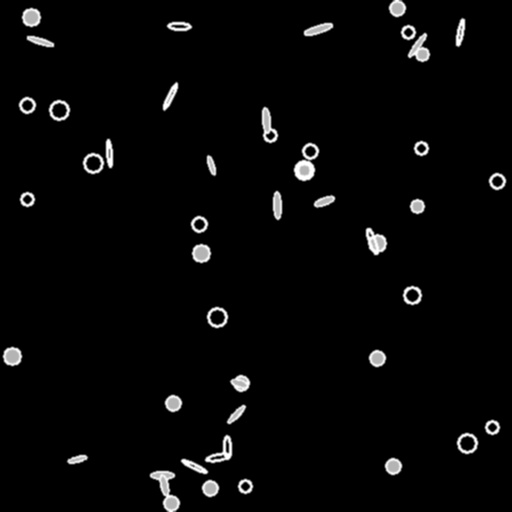pseudomonas: (161, 82, 179, 110), (407, 33, 427, 57), (303, 22, 333, 36), (181, 458, 207, 474), (364, 228, 380, 254), (227, 404, 245, 424), (26, 35, 54, 47), (313, 194, 335, 208), (455, 19, 465, 45), (206, 452, 230, 462), (105, 139, 113, 167), (159, 474, 169, 496), (262, 107, 270, 133), (67, 454, 87, 464), (206, 156, 216, 174), (230, 378, 248, 388), (274, 192, 280, 218), (224, 436, 230, 458), (151, 472, 173, 478), (168, 23, 190, 29)
synechocystis: (458, 434, 476, 452), (84, 154, 102, 172), (208, 308, 226, 326), (295, 161, 313, 179), (50, 101, 68, 119), (404, 287, 420, 303), (369, 235, 385, 251), (4, 348, 20, 364), (193, 245, 209, 261), (23, 9, 39, 25), (490, 174, 504, 188), (303, 144, 317, 158), (370, 351, 384, 365), (164, 496, 178, 510), (390, 1, 404, 15), (203, 481, 217, 495), (234, 376, 248, 390), (20, 98, 34, 112), (192, 217, 206, 231), (386, 459, 400, 473), (166, 396, 180, 410), (486, 421, 498, 433), (21, 193, 33, 205), (298, 164, 310, 176), (402, 26, 414, 38), (239, 480, 251, 492), (411, 200, 423, 212), (415, 142, 427, 154), (416, 48, 428, 60), (264, 129, 276, 141)
